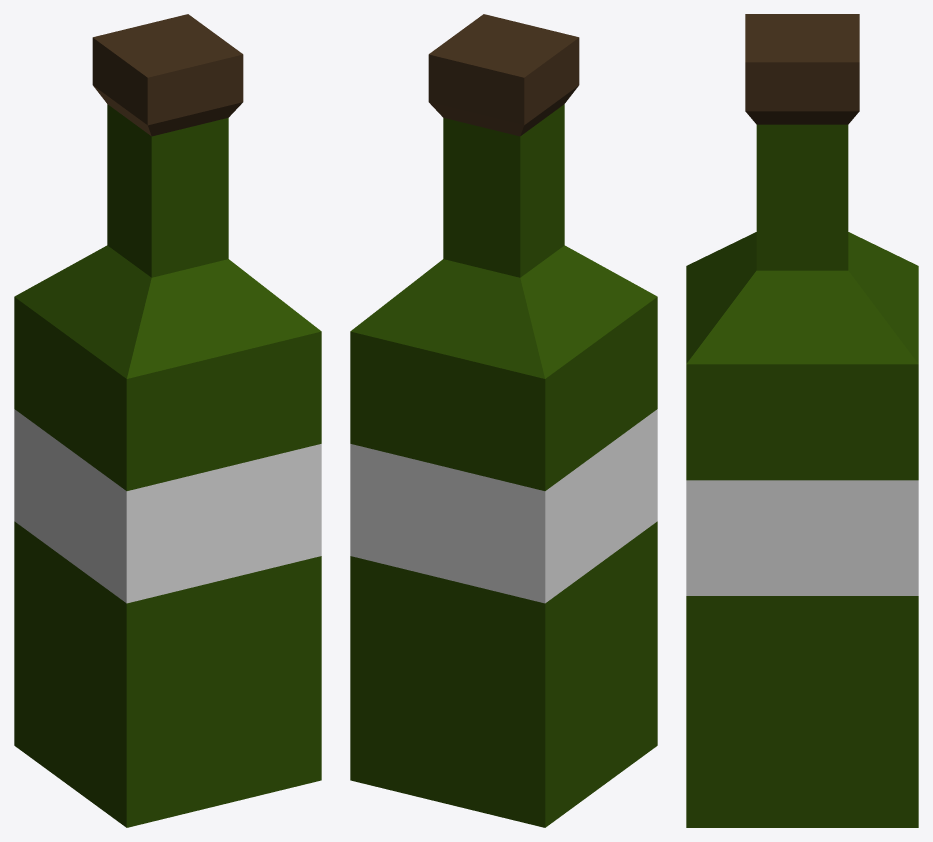
File: bottle.fbx
3 views of the same model, side by side, from view 1: azimuth 30°, elevation 25°; view 2: azimuth 150°, elevation 25°; view 3: azimuth 270°, elevation 25° (orthographic). The views are drawn at different scales.
Parts seen in each view (by area): view 1: Bottle; view 2: Bottle; view 3: Bottle.
Part boxes in pixels (x1,y1,x2,y2): Bottle: (14, 14, 321, 827); Bottle: (350, 14, 657, 827); Bottle: (686, 14, 918, 827).
Size of the model in its own units: 67.87 by 239 by 67.87.
